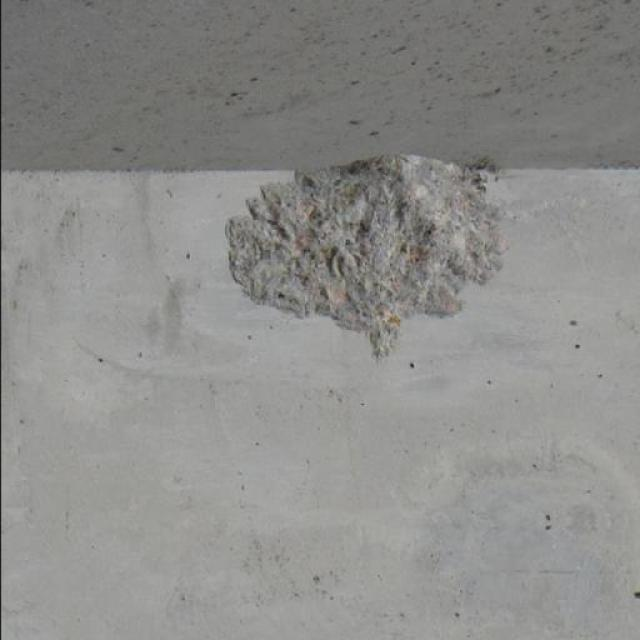D10: (224, 154, 508, 358)
